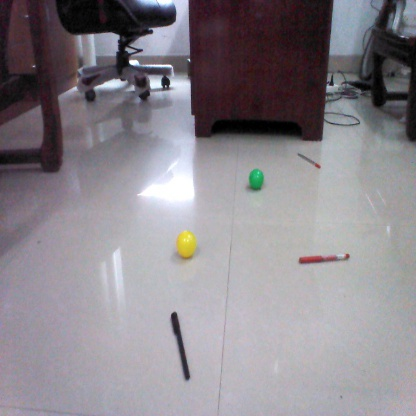ball: (174, 229, 198, 260), (248, 169, 264, 189)
pen: (169, 309, 194, 379), (299, 251, 351, 263), (296, 152, 319, 170)
